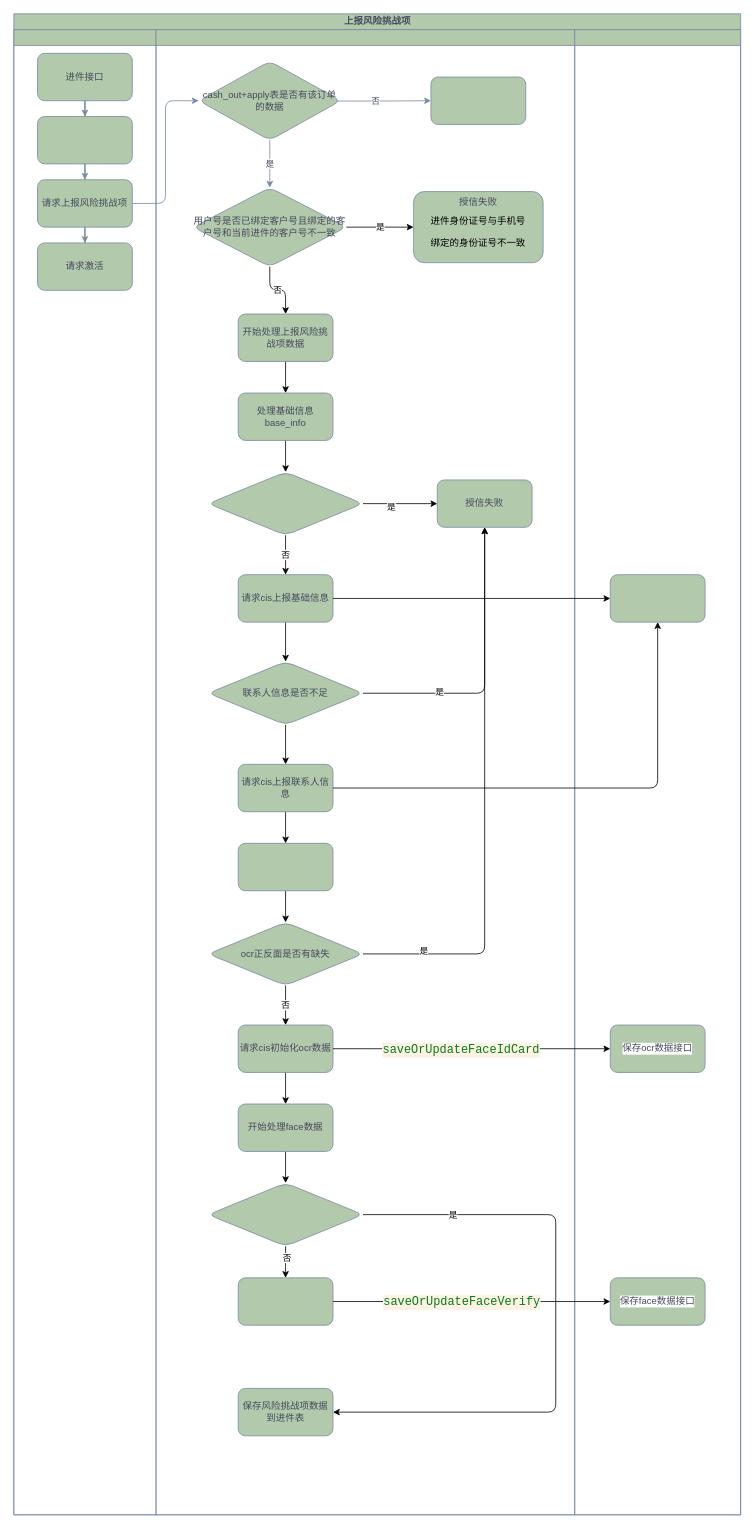
This 754x1529 diagram has some shape labels left out. The shapes that lost their labels are listed below. From the top down, each one's box as (x1, y1, x2, y2) in pixels, then its label:
(430, 76, 526, 124): 返回订单不存在
(37, 116, 132, 164): 请求收单
(207, 471, 363, 535): 基础信息是否缺失
(609, 574, 705, 622): 上报风险挑战项接口
(13, 29, 156, 1515): xyf-api-gateway
(155, 29, 575, 1515): apiopfcore
(574, 29, 741, 1515): CIS
(237, 843, 333, 891): 开始处理ocr数据
(207, 1182, 363, 1246): 用户号+客户号维度历史是否有face通过的记录
(237, 1277, 333, 1325): 请求cis初始化face数据
